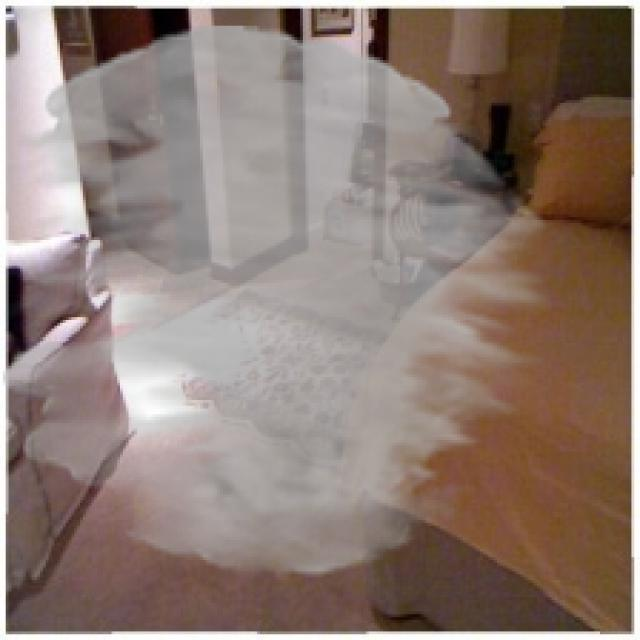Smoke: (2, 25, 552, 578)
